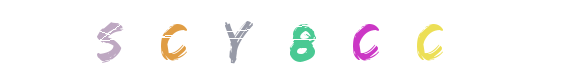8: (262, 0, 342, 80)
C: (146, 0, 226, 80), (323, 0, 403, 80), (351, 0, 431, 80)
S: (131, 0, 211, 80)
Y: (245, 0, 325, 80)
